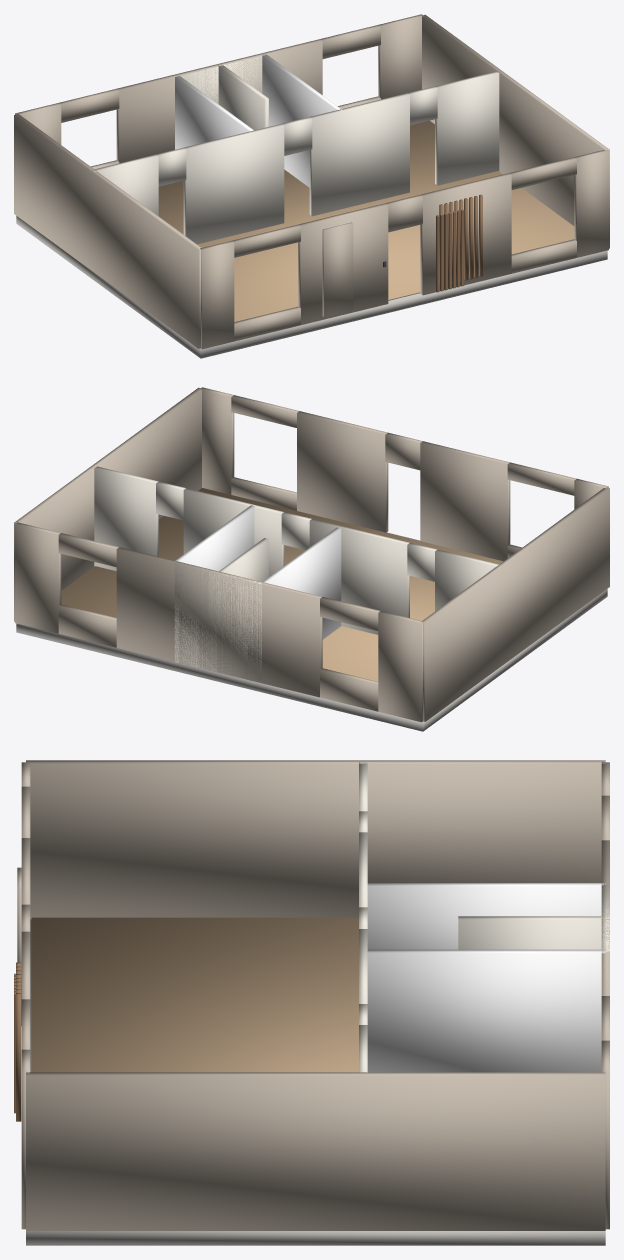
The model's file is architecture.glb.
The picture shows the model from 3 angles, top to bottom: view 1: azimuth 30°, elevation 25°; view 2: azimuth 150°, elevation 25°; view 3: azimuth 270°, elevation 25°; orthographic projection. The views are drawn at different scales.
Visible parts, largest first — view 1: LeftWall, InteriorFloor, RightWall, PrivateZonePartition_Segment_1, PrivateZonePartition_Segment_2, RearWall_Segment_1, FrontWall_Segment_1, PrivateZonePartition_Last, FrontWall_Segment_2, Foundation, SuiteDividerRight, FrontWall_Segment_0 (+18 smaller); view 2: RearWall_Segment_1, LeftWall, RightWall, FrontWall_Segment_2, FrontWall_Segment_1, InteriorFloor, UtilityBack_Last, PrivateZonePartition_Segment_1, Foundation, PrivateZonePartition_Last, RearWall_Last, RearWall_Segment_0 (+18 smaller); view 3: RightWall, LeftWall, InteriorFloor, SuiteDividerRight, SuiteDividerLeft, Foundation, BathroomDivider, RearWall_Segment_1, RearWall_Last, FrontWall_Last, Facade_TimberFin_8, FrontWall_Segment_2 (+3 smaller).
Part boxes in pixels (bbox=[...]): LeftWall: bbox=[14, 114, 201, 348]; InteriorFloor: bbox=[158, 120, 574, 321]; RightWall: bbox=[421, 14, 609, 248]; PrivateZonePartition_Segment_1: bbox=[183, 124, 284, 244]; PrivateZonePartition_Segment_2: bbox=[309, 93, 409, 216]; RearWall_Segment_1: bbox=[116, 39, 322, 163]; FrontWall_Segment_1: bbox=[298, 203, 388, 324]; PrivateZonePartition_Last: bbox=[435, 71, 499, 185]; FrontWall_Segment_2: bbox=[420, 173, 511, 295]; Foundation: bbox=[16, 216, 607, 358]; SuiteDividerRight: bbox=[262, 54, 342, 187]; FrontWall_Segment_0: bbox=[200, 241, 234, 349]; RearWall_Segment_1: bbox=[116, 547, 322, 697]; LeftWall: bbox=[421, 487, 609, 721]; RightWall: bbox=[14, 387, 201, 621]; FrontWall_Segment_2: bbox=[297, 411, 388, 532]; FrontWall_Segment_1: bbox=[420, 441, 510, 561]; InteriorFloor: bbox=[61, 488, 502, 681]; UtilityBack_Last: bbox=[174, 562, 261, 682]; PrivateZonePartition_Segment_1: bbox=[309, 519, 409, 634]; Foundation: bbox=[16, 532, 607, 731]; PrivateZonePartition_Last: bbox=[94, 466, 158, 570]; RearWall_Last: bbox=[15, 522, 61, 633]; RearWall_Segment_0: bbox=[378, 611, 423, 722]; RightWall: bbox=[26, 1072, 605, 1230]; LeftWall: bbox=[26, 760, 605, 919]; InteriorFloor: bbox=[31, 917, 358, 1072]; SuiteDividerRight: bbox=[367, 949, 605, 1072]; SuiteDividerLeft: bbox=[367, 883, 605, 949]; Foundation: bbox=[26, 919, 605, 1245]; BathroomDivider: bbox=[458, 916, 605, 949]; RearWall_Segment_1: bbox=[601, 840, 609, 995]; RearWall_Last: bbox=[601, 1040, 609, 1229]; FrontWall_Last: bbox=[21, 1049, 30, 1229]; Facade_TimberFin_8: bbox=[16, 993, 21, 1121]; FrontWall_Segment_2: bbox=[21, 931, 30, 999].
Bounding box in the file's own units: 14.16 × 3.59 × 11.31.
